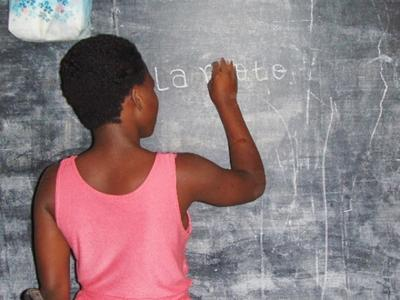person: (31, 34, 265, 300)
